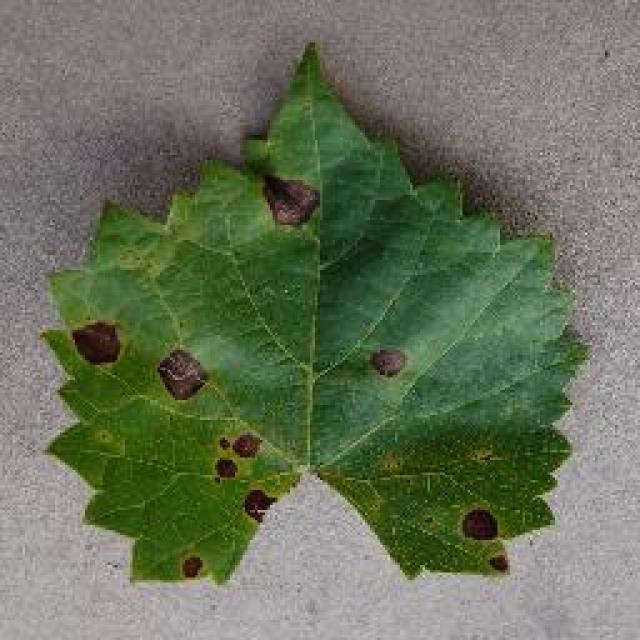Grape___Black_rot: (30, 38, 591, 592)
